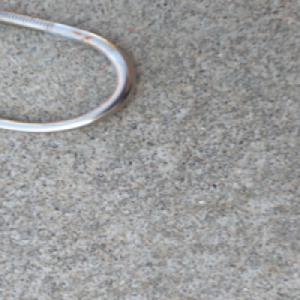ClampPart: (0, 8, 138, 136)
